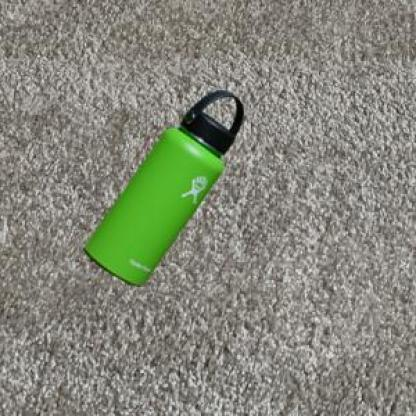bottle: (82, 90, 245, 285)
